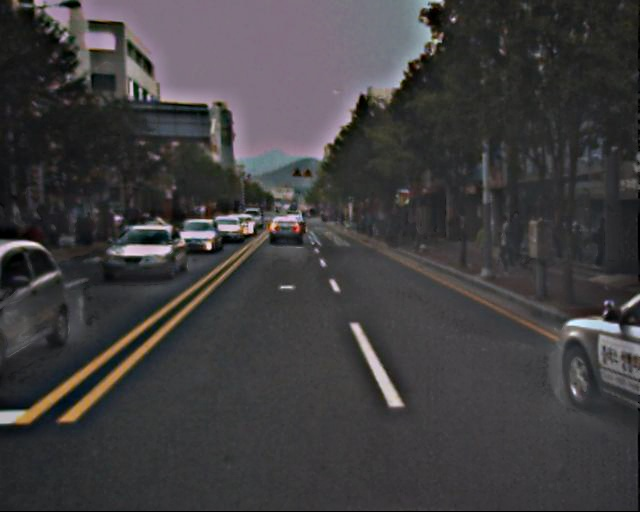person: (493, 218, 515, 271), (508, 213, 524, 252), (571, 224, 586, 261)
